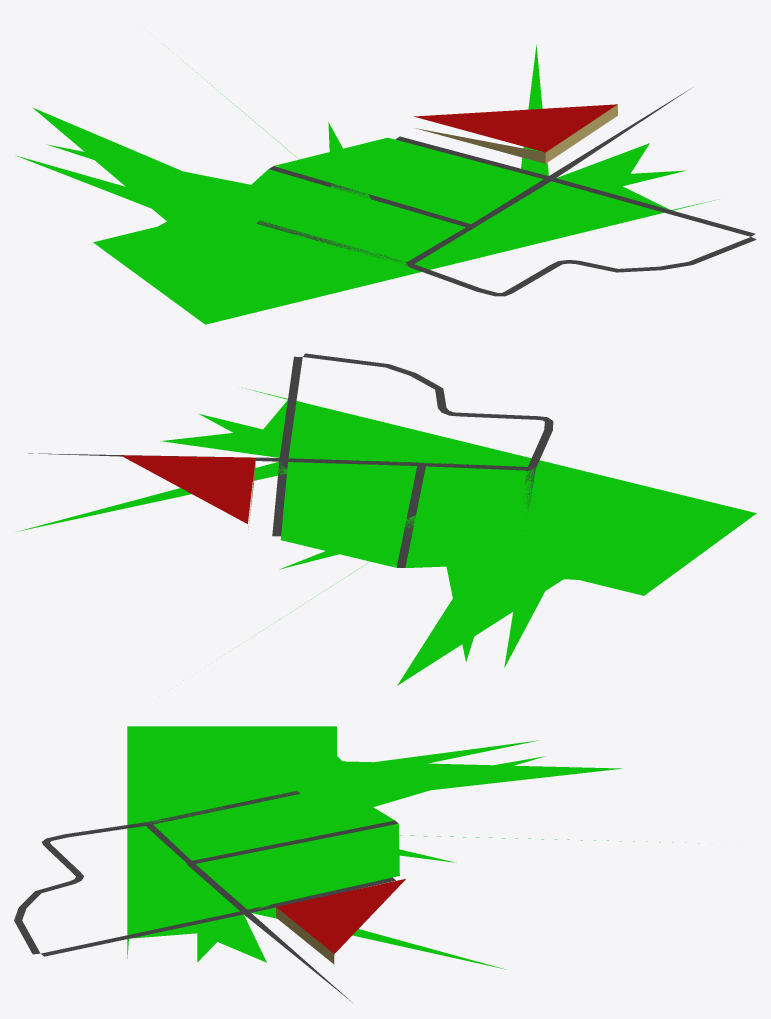
3 views of the same model, one above another, from view 1: azimuth 30°, elevation 25°; view 2: azimuth 150°, elevation 25°; view 3: azimuth 270°, elevation 25° (orthographic). The views are drawn at different scales.
Bounding box in the file's own units: 282 × 5 × 319.
